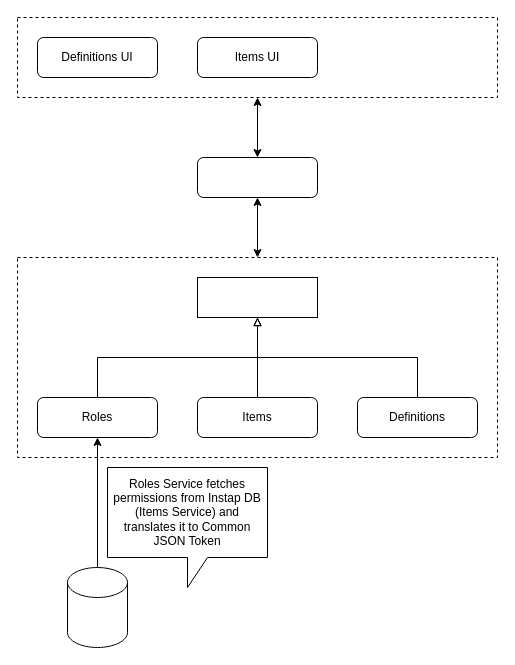
The diagram is 515 pixels wide and 665 high, and some of its shapes have lost their labels. Each missing label, with the centre of its shape:
"DB" belongs at point 97,607.
"Gateway" belongs at point 257,177.
"Roles .JAR" belongs at point 257,297.
